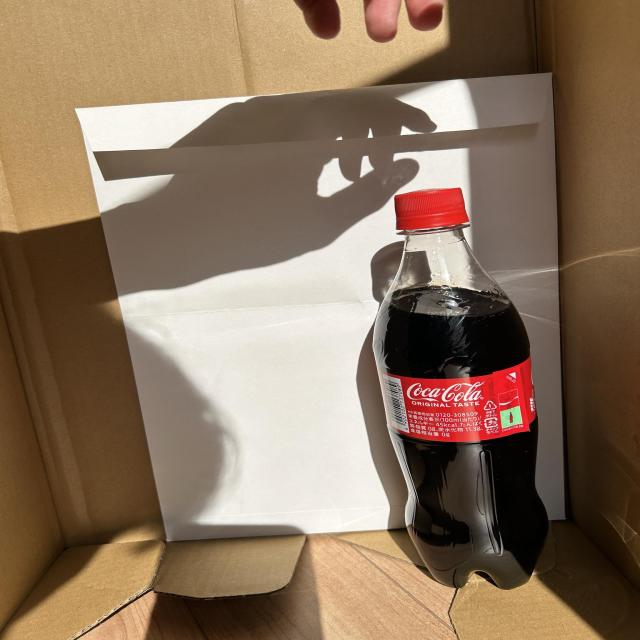high: (373, 188, 548, 589)
